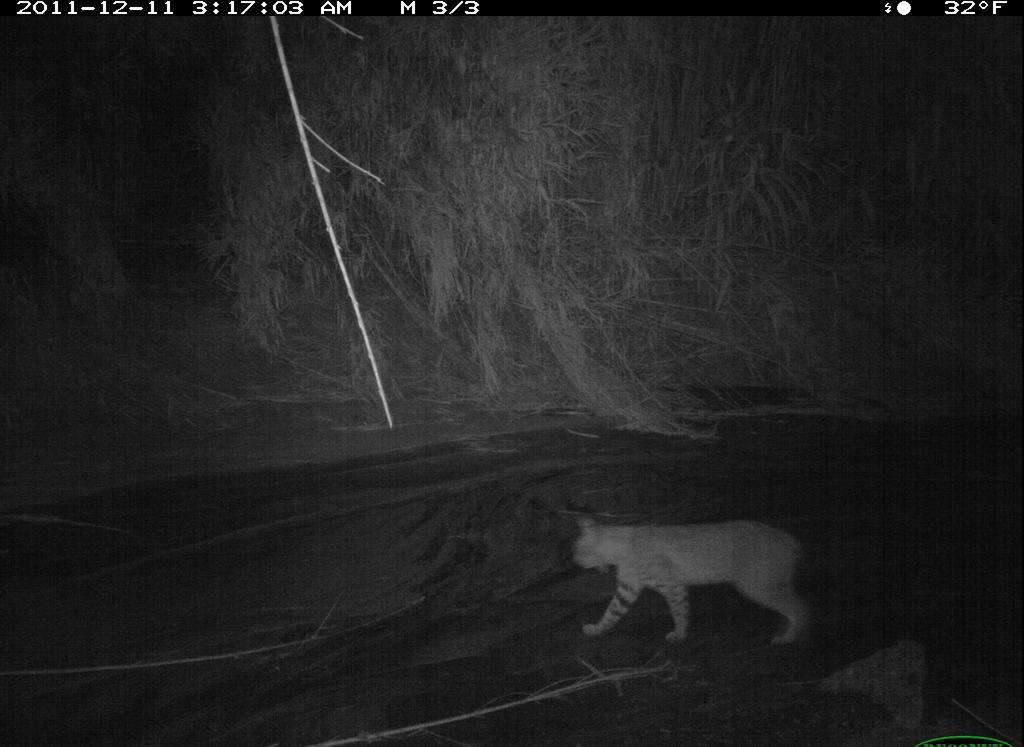bobcat: (552, 509, 817, 658)
